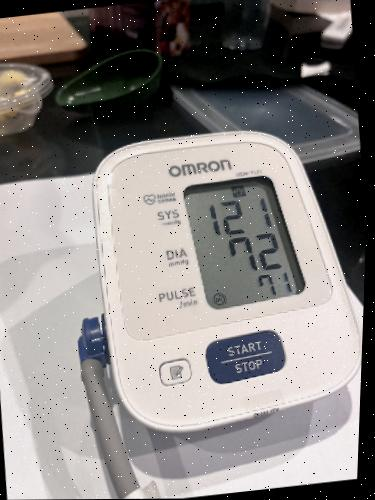bpm: (176, 158, 311, 317)
